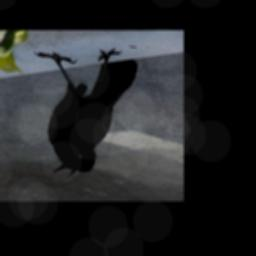Crow: (33, 49, 137, 177)
